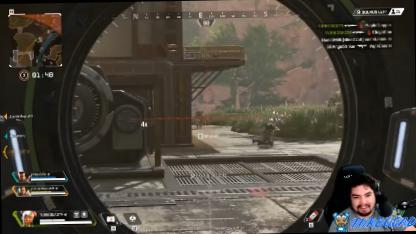Target: (254, 120, 278, 146), (195, 106, 205, 126)
